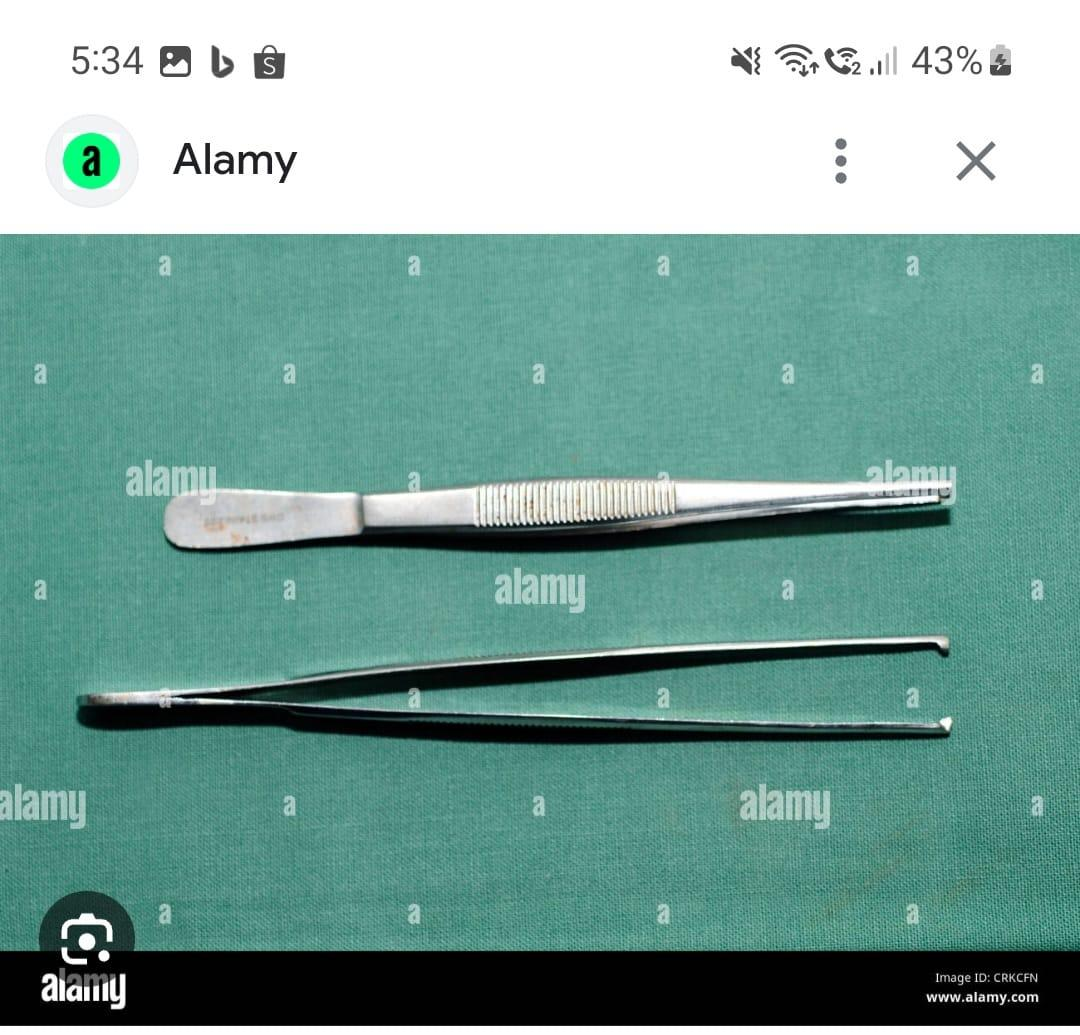Disscting Forceps: (70, 625, 982, 783), (132, 432, 970, 567)
